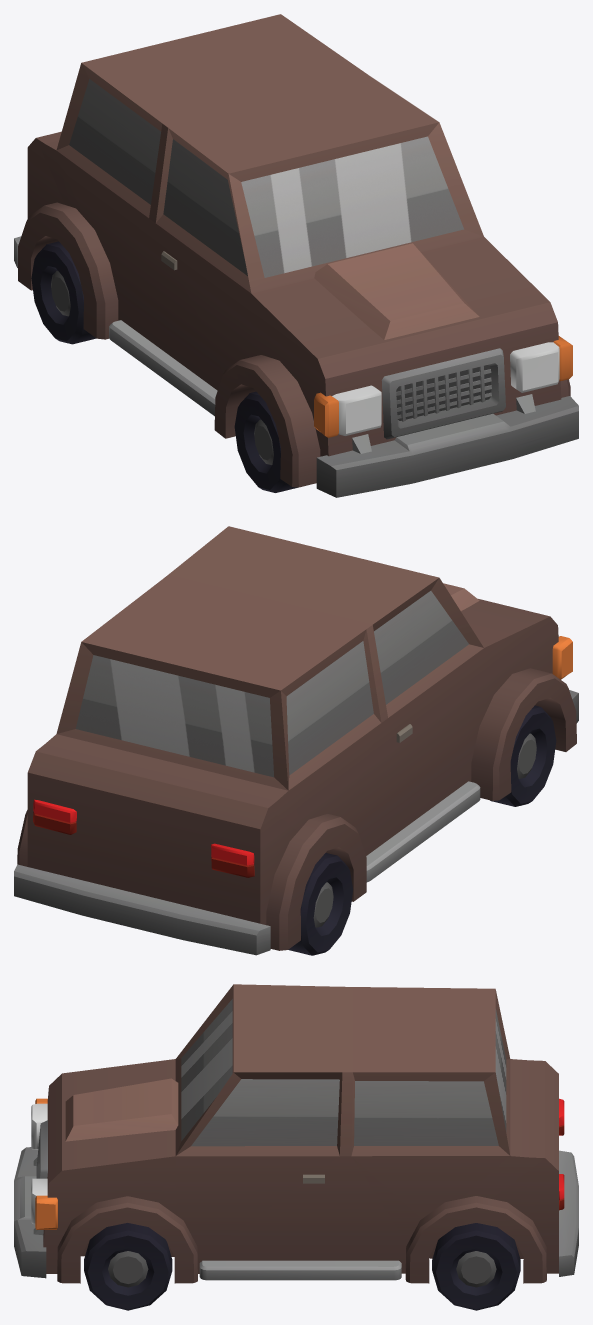
The model's file is Car_3_12.glb.
3 views of the same model, one above another, from view 1: azimuth 30°, elevation 25°; view 2: azimuth 150°, elevation 25°; view 3: azimuth 270°, elevation 25° (orthographic). The views are drawn at different scales.
Parts seen in each view (by area): view 1: Car_3_12, Wheel_Br, Wheel_Fr; view 2: Car_3_12, Wheel_Br, Wheel_Fr; view 3: Car_3_12, Wheel_Bl, Wheel_Fl.
Part boxes in pixels (bbox=[...]): Car_3_12: bbox=[14, 14, 578, 497]; Wheel_Br: bbox=[31, 241, 96, 344]; Wheel_Fr: bbox=[234, 391, 297, 492]; Car_3_12: bbox=[14, 526, 578, 955]; Wheel_Br: bbox=[288, 853, 353, 955]; Wheel_Fr: bbox=[490, 705, 556, 806]; Car_3_12: bbox=[14, 984, 578, 1283]; Wheel_Bl: bbox=[432, 1223, 520, 1310]; Wheel_Fl: bbox=[84, 1223, 172, 1310].
Size of the model in its own units: 1.13 by 1.02 by 2.3.
Materials: 6 (6 with a texture image).
